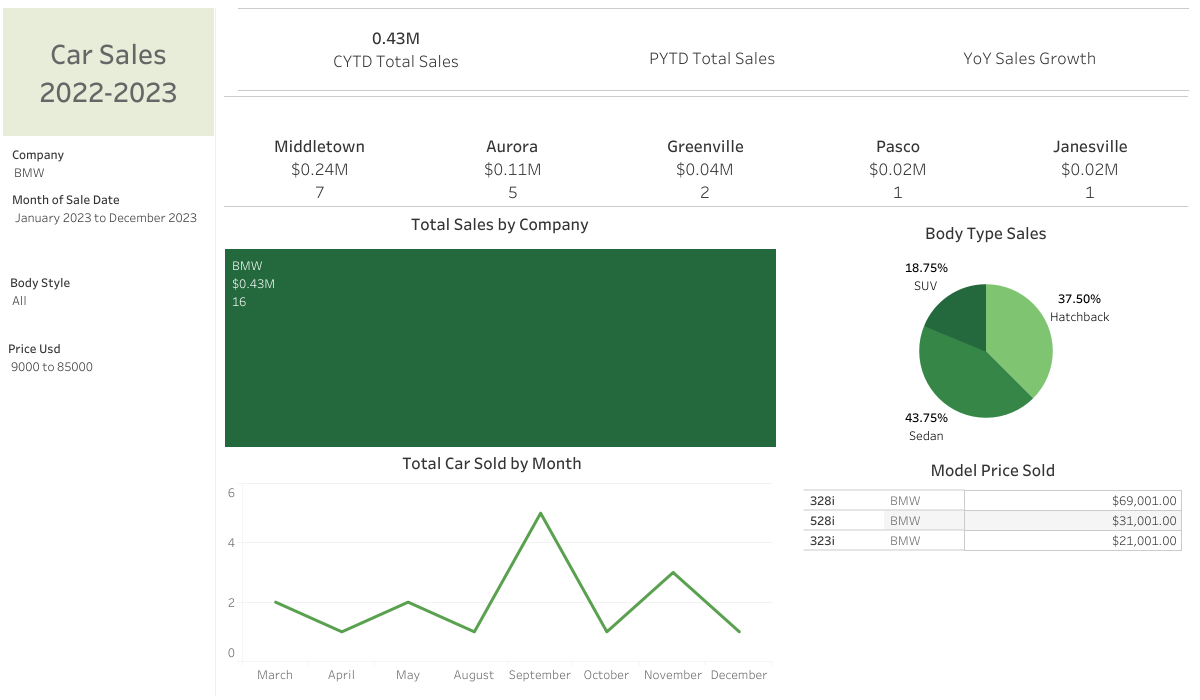

What the dashboard file says about the page in this screenshot:
{"tool":"tableau","page":{"name":"Dashboard 1","canvas":[1200,700],"ordinal":0},"visuals":[{"type":"worksheet","title":"Summary","mark":"Automatic","box":[237.6,7.9,951.6,83.1]},{"type":"text","box":[3,8,211,128]},{"type":"text","box":[215,8,1,688]},{"type":"worksheet","title":"Region","mark":"Automatic","cols":["dealer_region"],"box":[224,96,964,111]},{"type":"filter","title":"Sales","param":"[federated.0dxwcn90ywr8hz163ouc71rrlagc].[none:company:nk]","box":[12,143.5,192,42]},{"type":"filter","title":"Sales","param":"[federated.0dxwcn90ywr8hz163ouc71rrlagc].[tmn:sale_date:qk]","box":[12,189,192,62]},{"type":"worksheet","title":"Sales","mark":"Automatic","box":[220,206,560,246]},{"type":"worksheet","title":"Body","mark":"Pie","box":[786,215.2,399.6,233.6]},{"type":"filter","title":"Sales","param":"[federated.0dxwcn90ywr8hz163ouc71rrlagc].[none:body_style:nk]","box":[10,272,192,49]},{"type":"filter","title":"Sales","param":"[federated.0dxwcn90ywr8hz163ouc71rrlagc].[none:price_usd:qk]","box":[8,338,192,74]},{"type":"worksheet","title":"Month","mark":"Automatic","rows":["Calculation_1125956324376600"],"cols":["sale_date"],"box":[212,445,560,238]},{"type":"worksheet","title":"Price","mark":"Automatic","rows":["model","company"],"box":[804,451.5,378,232.8]}]}

Visuals, with their boxes in screenshot pixels (x1, y1, x2, y2), scaled from the page's 1200x700 canvas onto the 1200x700 screenshot:
"Summary" worksheet: box=[238, 8, 1189, 91]
text: box=[3, 8, 214, 136]
text: box=[215, 8, 216, 696]
"Region" worksheet: box=[224, 96, 1188, 207]
"Sales" filter: box=[12, 144, 204, 186]
"Sales" filter: box=[12, 189, 204, 251]
"Sales" worksheet: box=[220, 206, 780, 452]
"Body" worksheet (Pie marks): box=[786, 215, 1186, 449]
"Sales" filter: box=[10, 272, 202, 321]
"Sales" filter: box=[8, 338, 200, 412]
"Month" worksheet: box=[212, 445, 772, 683]
"Price" worksheet: box=[804, 452, 1182, 684]
